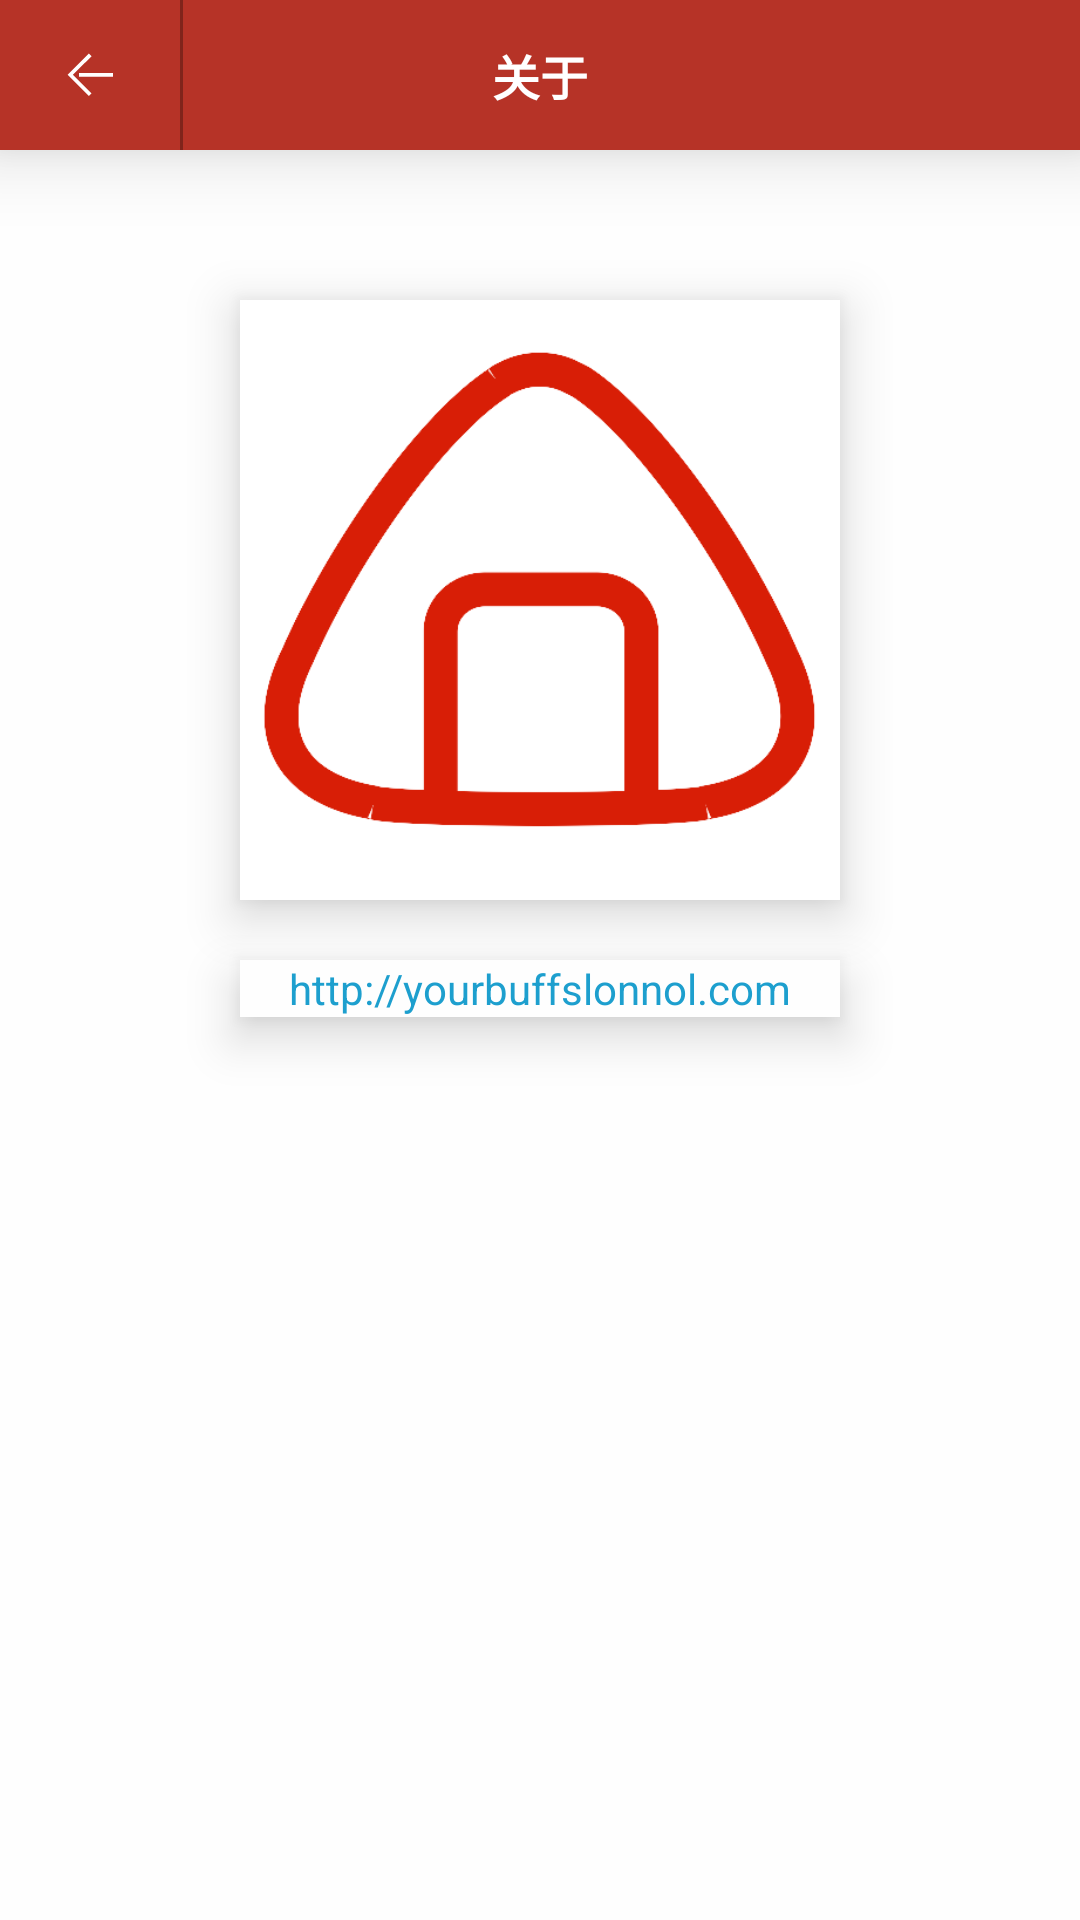

Where to tap for icons on this 1080px×1920px app screen, as point (x, y):
return: point (90, 75)
